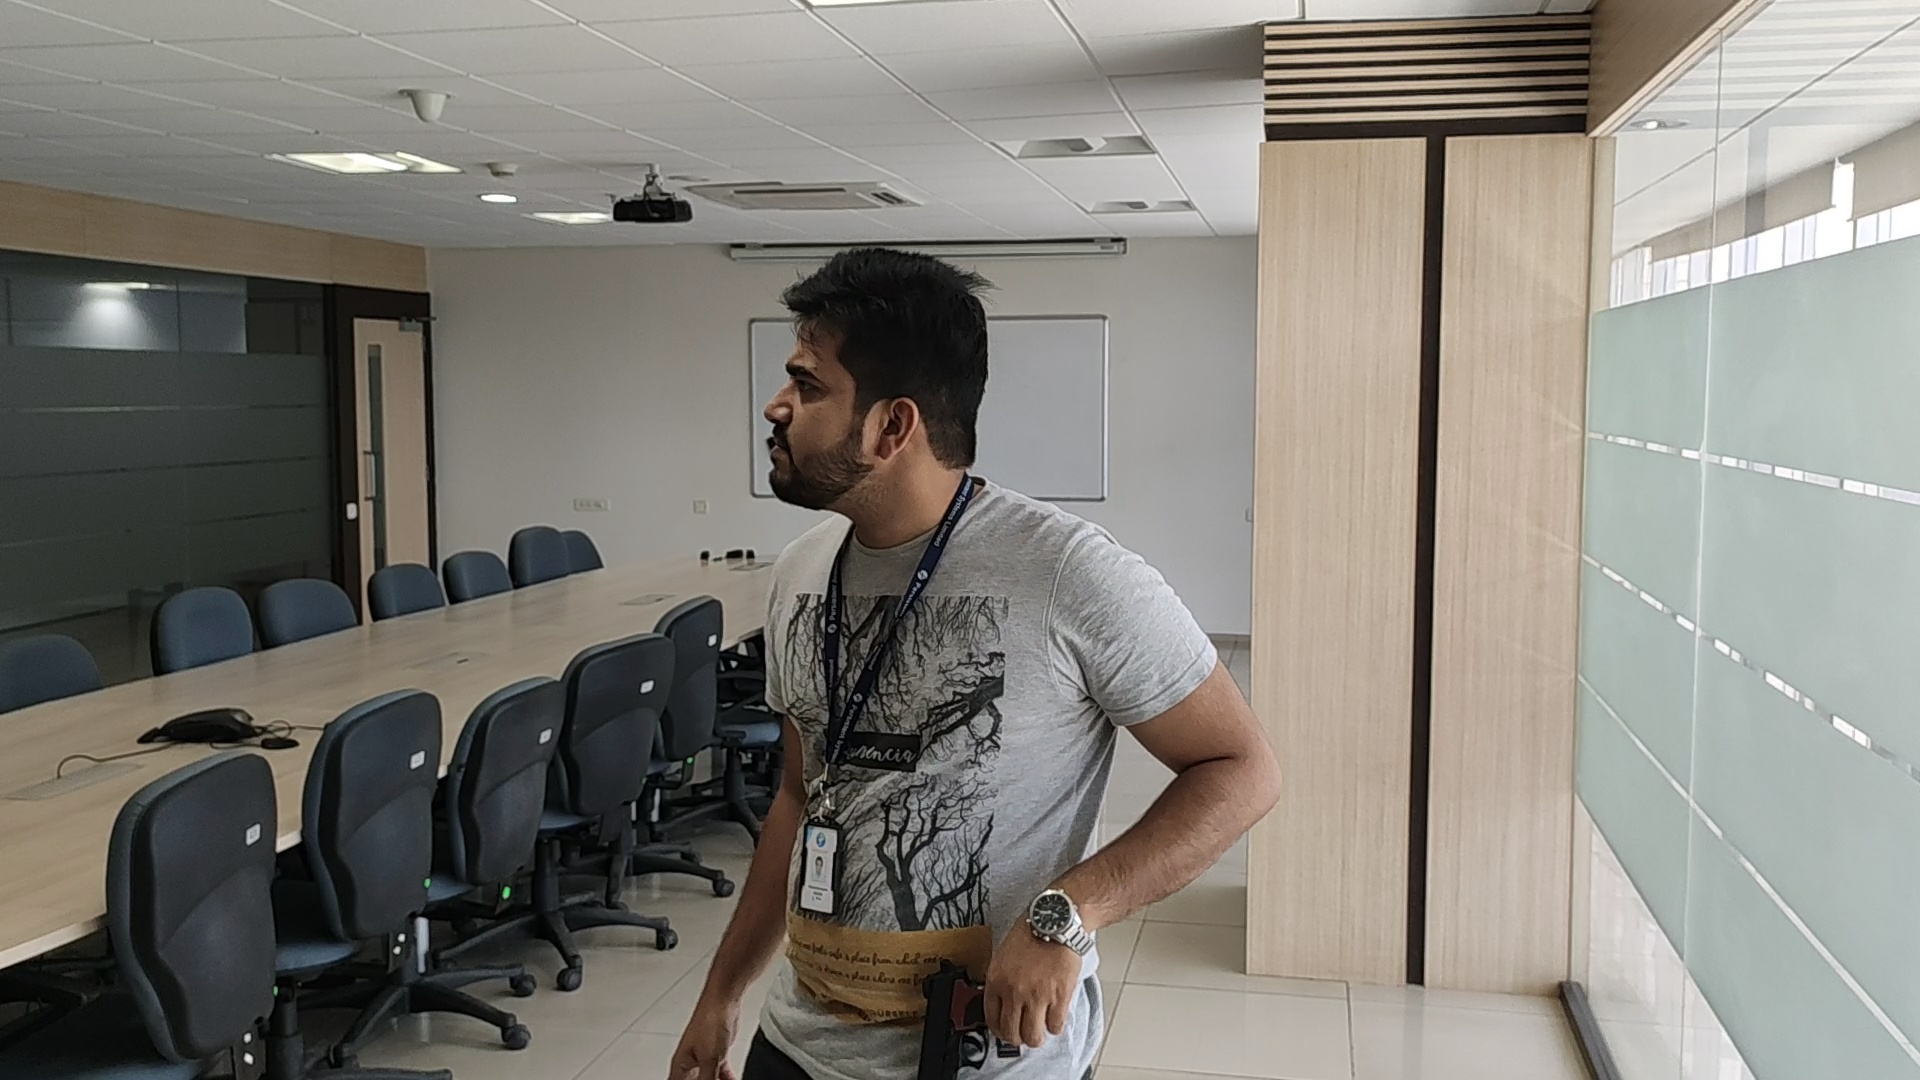gun: (916, 957, 986, 1077)
